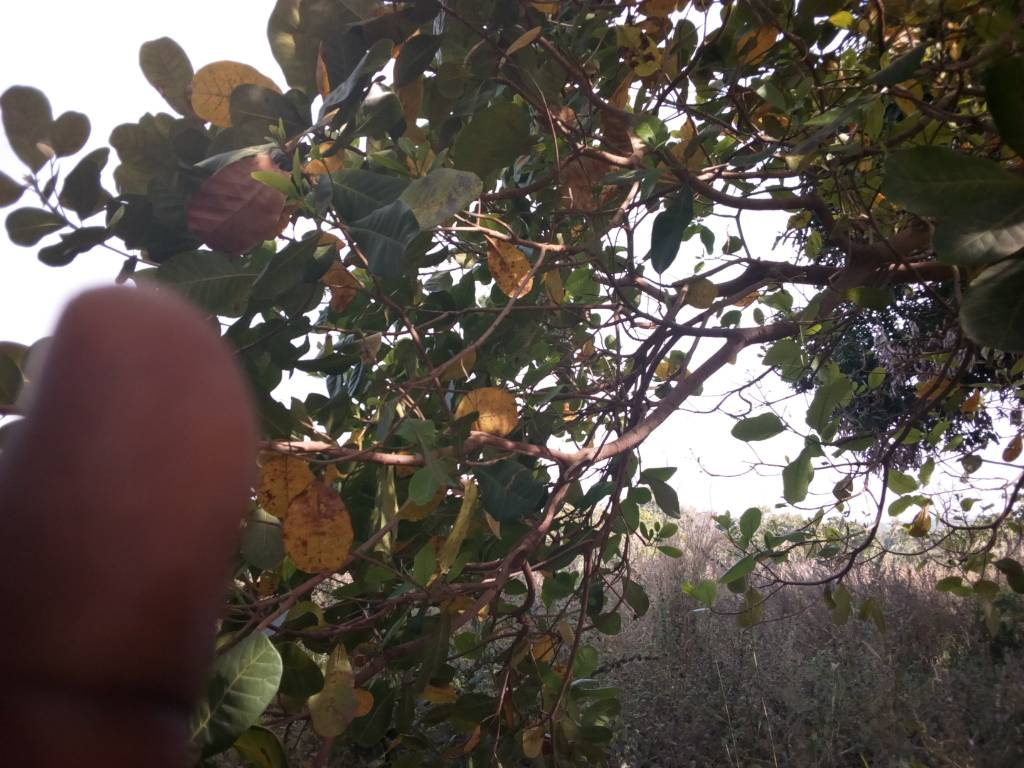Bactériose: (282, 478, 354, 582), (485, 240, 531, 296)
